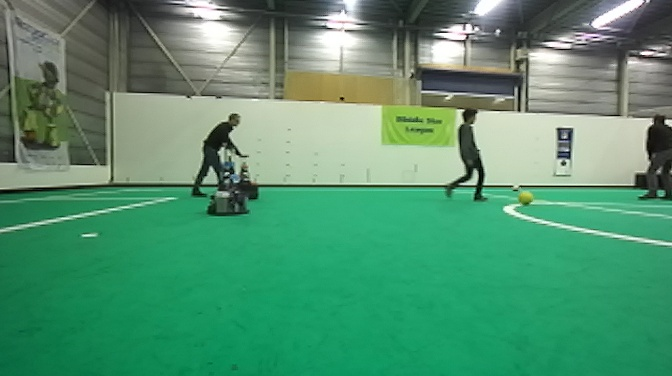ball: (516, 186, 534, 206), (509, 181, 521, 194)
human: (189, 111, 251, 199), (442, 108, 489, 204), (636, 114, 672, 202)
robot: (205, 143, 252, 217), (230, 154, 260, 201)
